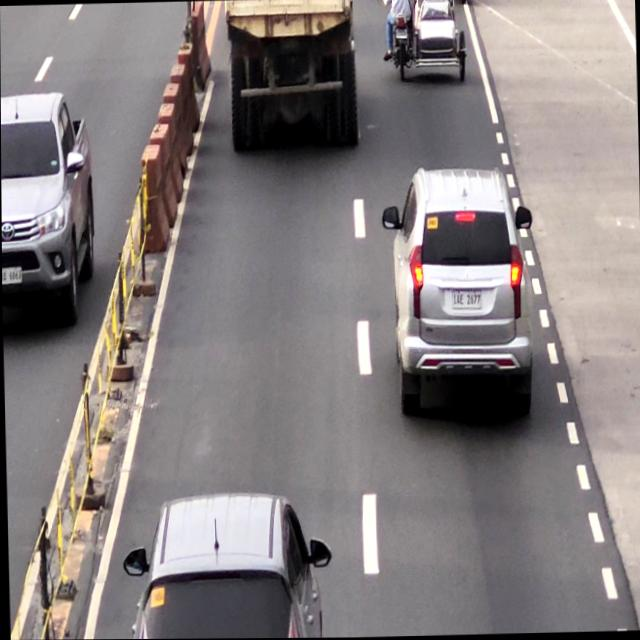Car: (387, 168, 532, 418), (135, 496, 317, 639)
License-Plate: (450, 287, 481, 312)
Tricycle: (385, 0, 467, 82)
Truck: (223, 0, 357, 152)
